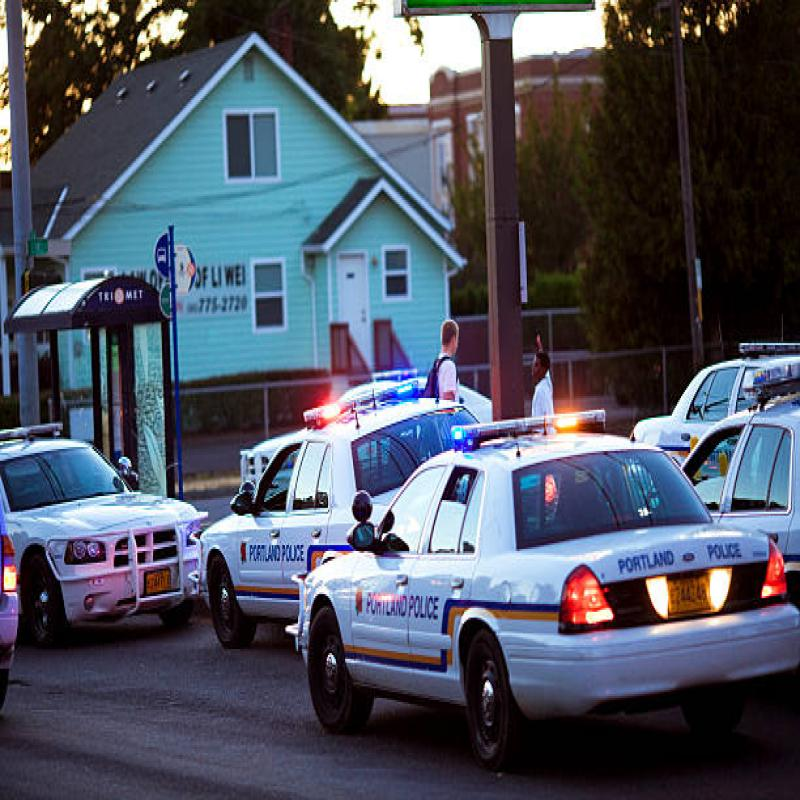AmbulanceSiren: (290, 357, 430, 450), (448, 408, 610, 450)
